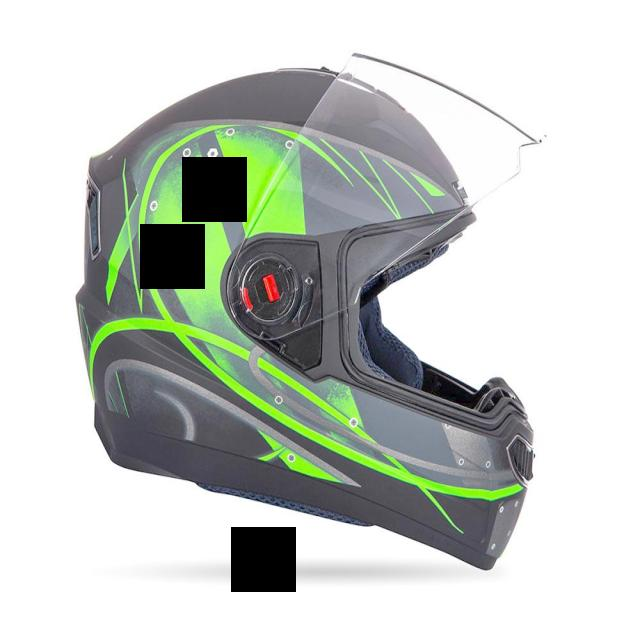Helmet: (78, 54, 535, 569)
